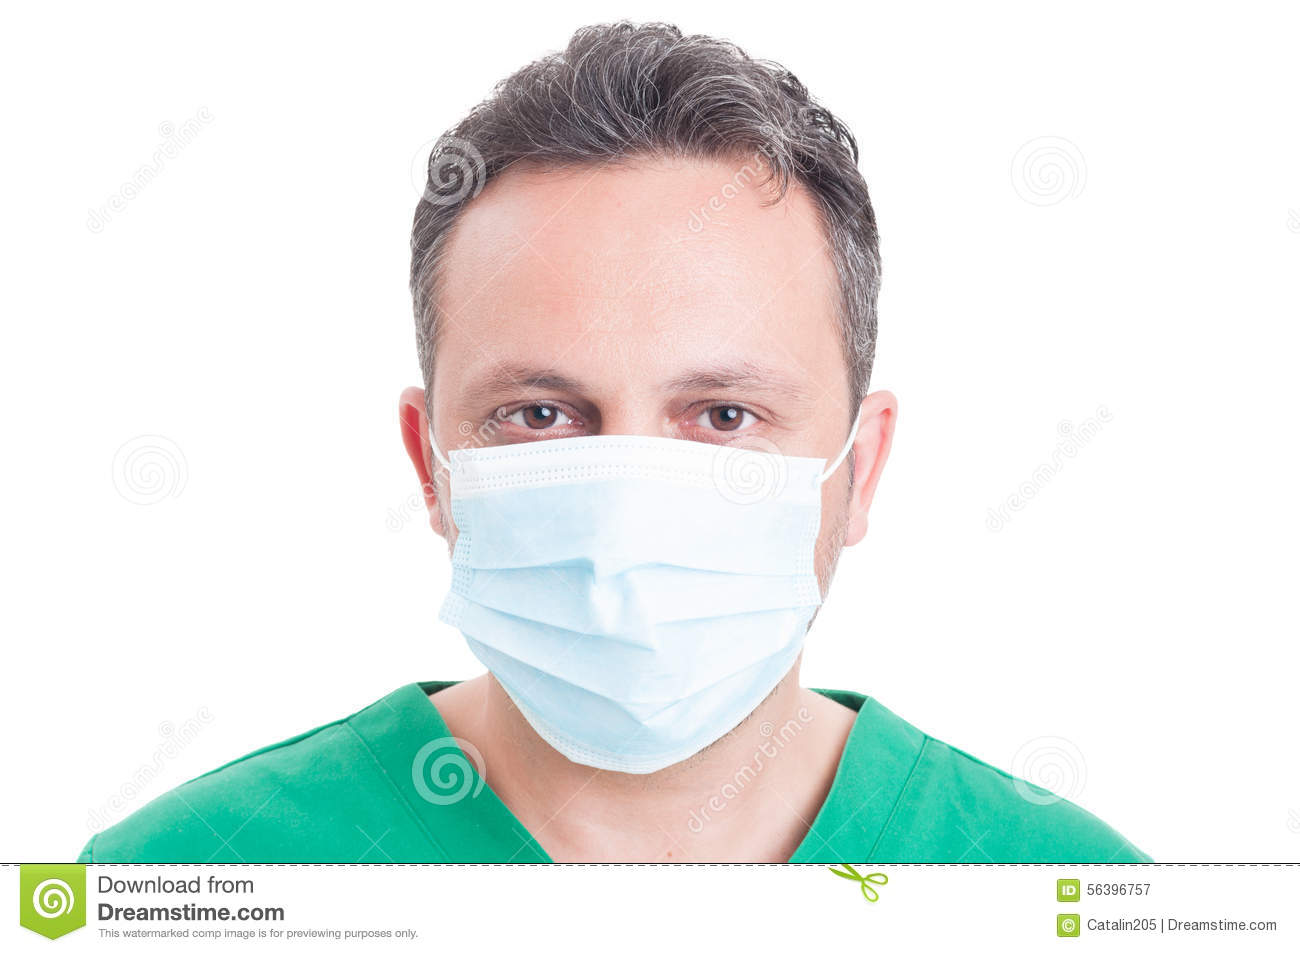mask: (417, 425, 845, 774)
